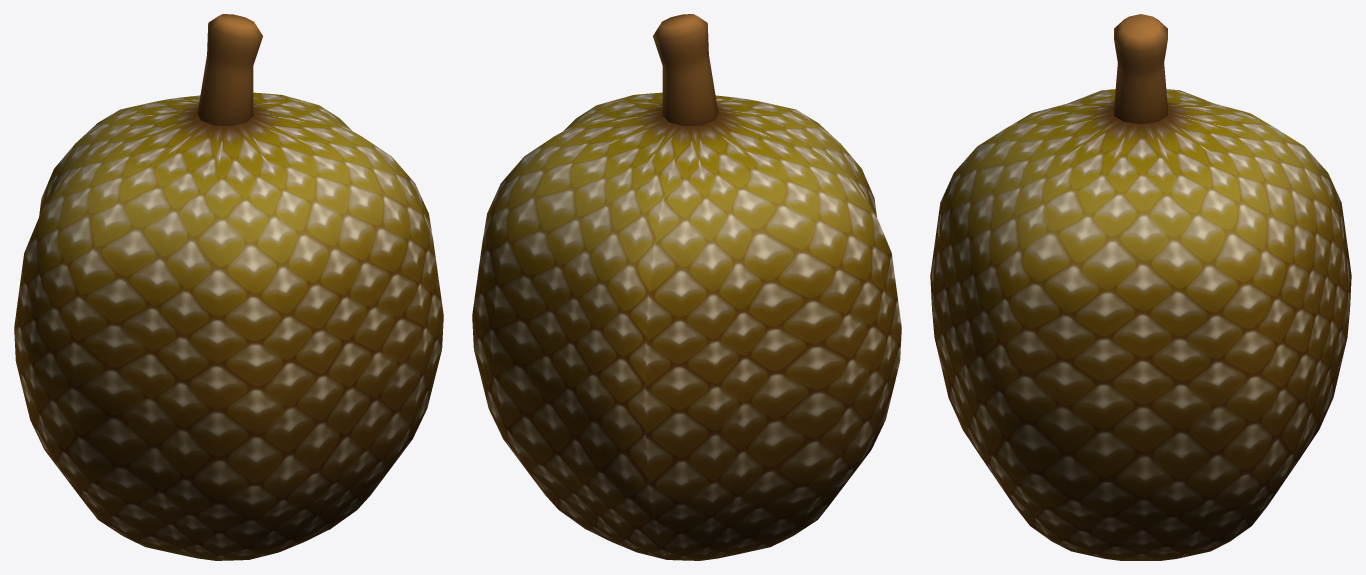
File: Durian.fbx
3 renders of one model, left to right at view 1: azimuth 30°, elevation 25°; view 2: azimuth 150°, elevation 25°; view 3: azimuth 270°, elevation 25°, orthographic.
Parts seen in each view (by area): view 1: Durian; view 2: Durian; view 3: Durian.
Part boxes in pixels (left/top/right/bottom): Durian: left=14, top=14, right=443, bottom=560; Durian: left=472, top=14, right=901, bottom=560; Durian: left=930, top=14, right=1351, bottom=560.
Bounding box in the file's own units: 82.72 × 112 × 80.83.
Materials: 1 (1 with a texture image).
